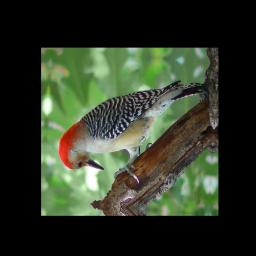Woodpecker: (54, 65, 208, 190)
